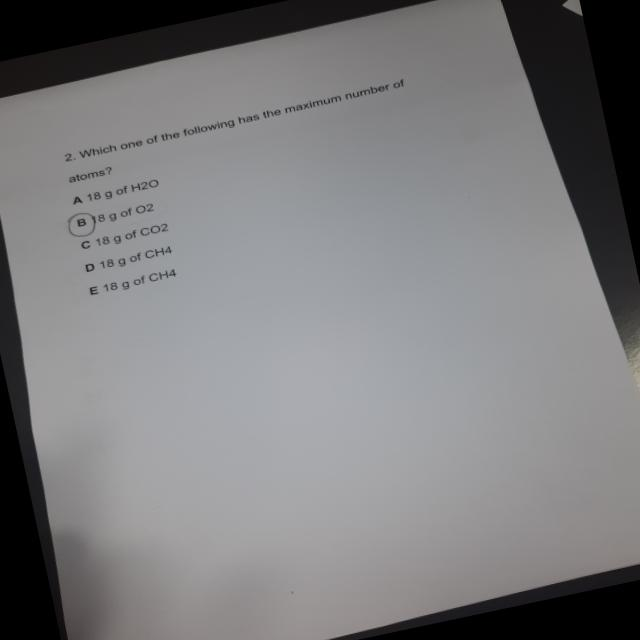B: (65, 210, 102, 241)
